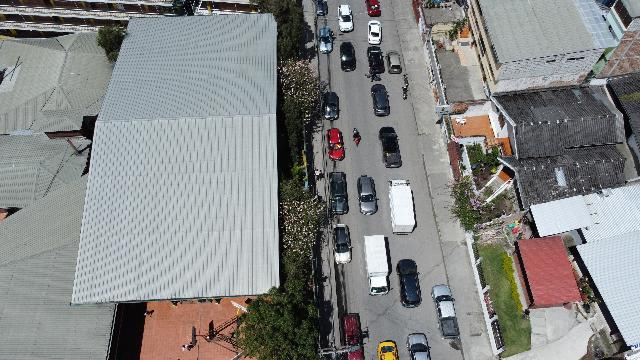Vehiculo: (431, 284, 462, 340), (396, 258, 422, 308), (378, 126, 402, 168), (357, 175, 379, 215), (329, 172, 349, 214), (332, 224, 352, 264), (326, 128, 346, 162), (407, 332, 431, 360), (370, 84, 390, 116), (367, 46, 385, 74), (340, 42, 356, 72), (319, 26, 335, 54), (323, 92, 339, 120), (338, 5, 354, 31), (369, 276, 389, 296), (378, 340, 398, 360), (386, 50, 402, 74), (368, 20, 382, 44), (366, 0, 380, 16), (316, 1, 328, 16)
